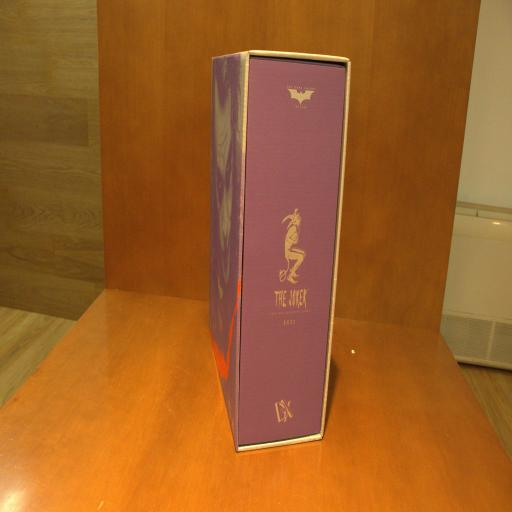Joker: (211, 48, 353, 449)
